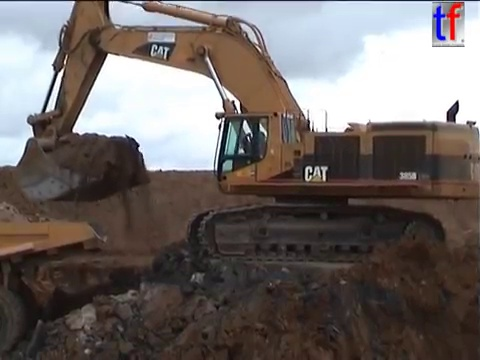excavator: (10, 1, 480, 266)
truck: (1, 213, 110, 356)
